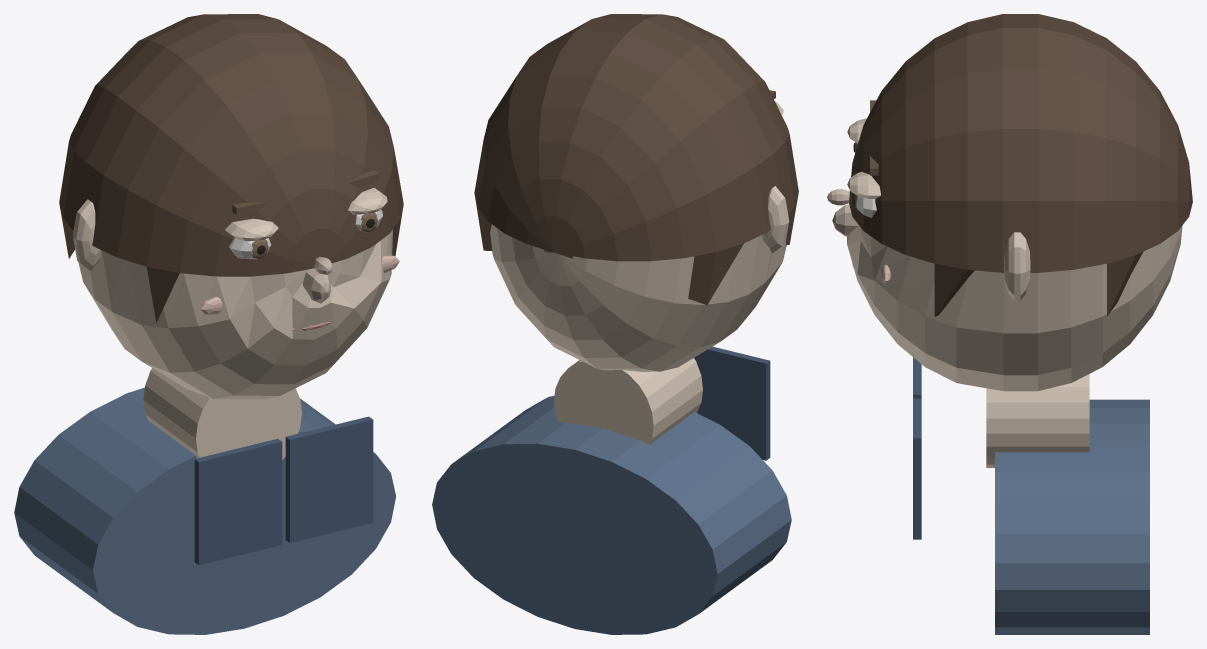
Rendered from default_teacher.glb.
3 renders of one model, left to right at view 1: azimuth 30°, elevation 25°; view 2: azimuth 150°, elevation 25°; view 3: azimuth 270°, elevation 25°, orthographic. The views are drawn at different scales.
Visible parts, largest first — view 1: geometry_0; view 2: geometry_0; view 3: geometry_0.
Boxes of the visible parts, x1,y1,x2,y2 form: geometry_0: (14,14,403,634); geometry_0: (432,14,798,634); geometry_0: (827,14,1192,634).
Size of the model in its own units: 2.09 by 3.74 by 2.12.
